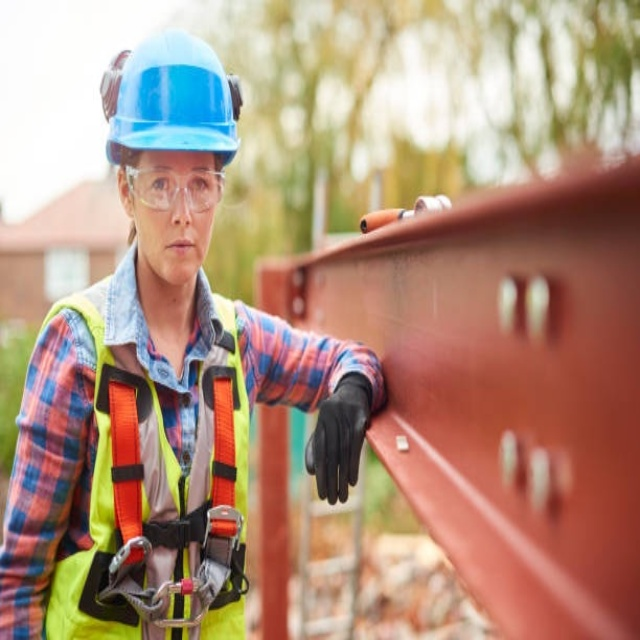Gafas: (127, 162, 228, 215)
Guantes: (303, 371, 376, 501)
Sin_mascara: (151, 227, 206, 282)
